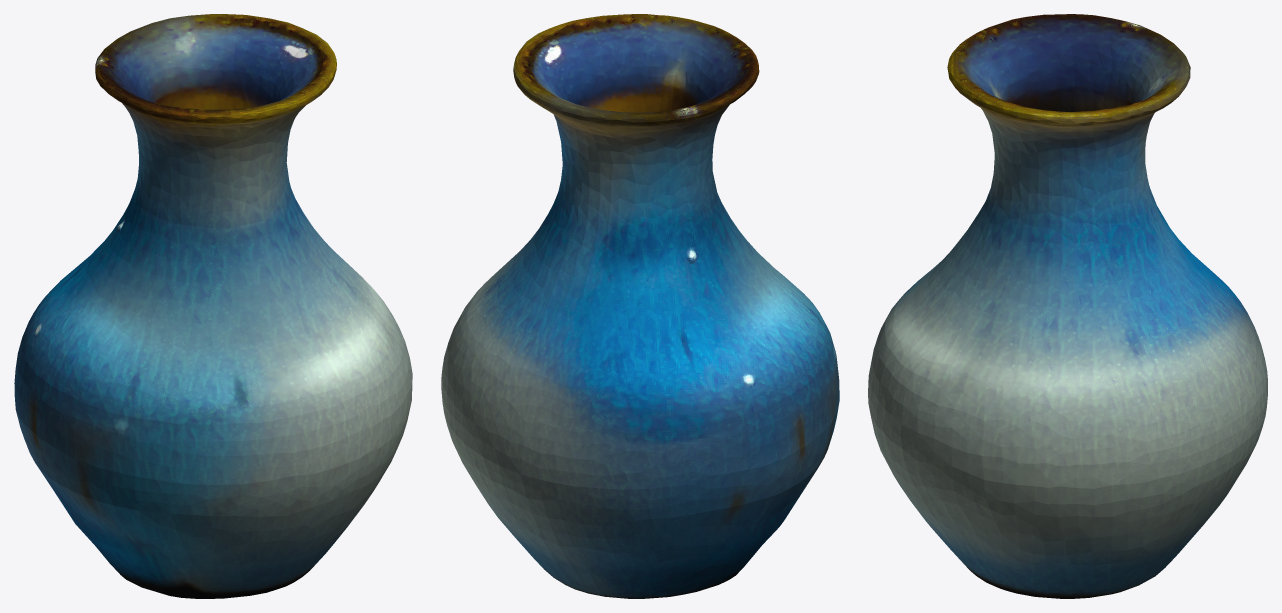
The model's file is vase_textured.obj.
3 views of the same model, side by side, from view 1: azimuth 30°, elevation 25°; view 2: azimuth 150°, elevation 25°; view 3: azimuth 270°, elevation 25° (orthographic).
Parts seen in each view (by area): view 1: obj1; view 2: obj1; view 3: obj1.
Part boxes in pixels (left/top/right/bottom): obj1: left=14, top=14, right=412, bottom=598; obj1: left=441, top=14, right=839, bottom=598; obj1: left=868, top=14, right=1267, bottom=598.
Size of the model in its own units: 0.3665 by 0.5035 by 0.367.
Materials: 1 (1 with a texture image).
